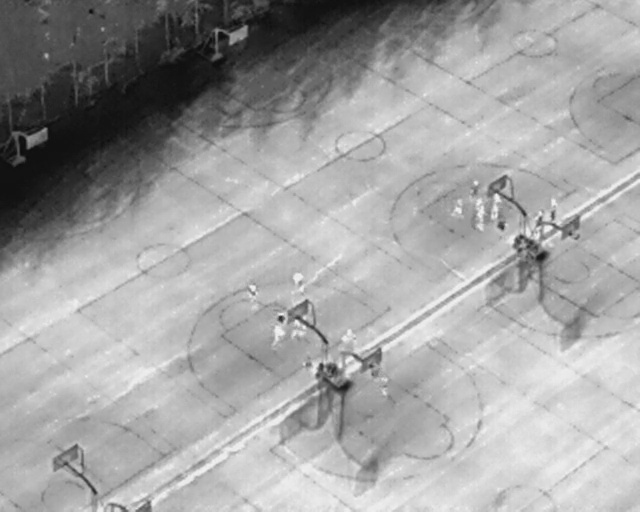Person: (247, 284, 261, 313), (450, 195, 464, 220), (272, 322, 284, 350), (292, 268, 304, 292), (550, 196, 559, 225), (492, 193, 500, 218), (477, 205, 485, 230), (380, 374, 388, 398), (538, 208, 545, 233), (476, 196, 483, 219), (293, 317, 301, 337), (471, 177, 477, 200)
